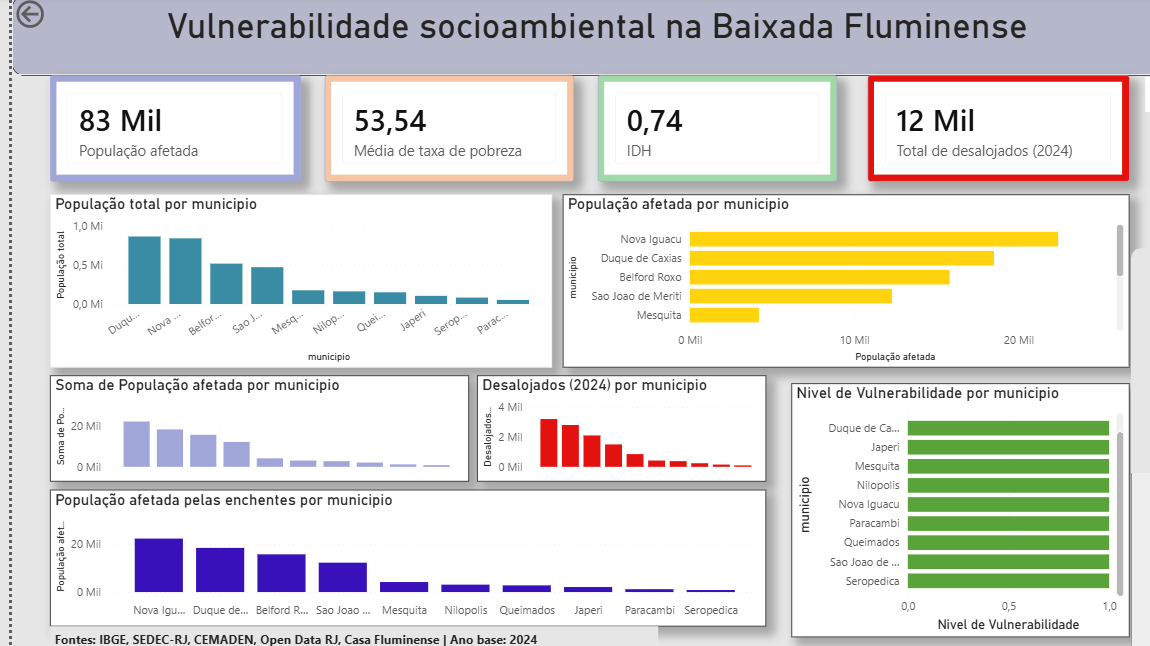

The dashboard page shown, as its layout file describes it:
{"tool":"powerbi","page":{"name":"Página 1","canvas":[1280,720],"ordinal":0},"visuals":[{"type":"textbox","box":[0,0,1279.2,86.7],"z":0},{"type":"cardVisual","fields":{"Data":["Sum(Sheet1.População afetada)"]},"box":[41.6,86.7,273.9,116.1],"z":1000},{"type":"cardVisual","fields":{"Data":["Avg(Sheet1.taxa_pobreza)"]},"box":[341.5,86.7,272.1,116.1],"z":2000},{"type":"cardVisual","fields":{"Data":["Avg(Sheet1.idh)"]},"box":[639.6,86.7,261.7,116.1],"z":3000},{"type":"cardVisual","fields":{"Data":["Sum(Sheet1.desalojados_2024)"]},"box":[934.3,86.7,286,116.1],"z":4000},{"type":"columnChart","fields":{"Y":["Sum(Sheet1.populacao_total)"],"Category":["Sheet1.municipio"]},"box":[41.6,216.7,547.7,188.9],"z":5000},{"type":"clusteredBarChart","fields":{"Category":["Sheet1.municipio"],"Y":["Sum(Sheet1.População afetada)"]},"box":[601.5,216.7,618.8,188.9],"z":6000},{"type":"columnChart","fields":{"Category":["Sheet1.municipio"],"Y":["Sum(Sheet1.População afetada)"]},"box":[41.6,414.3,457.6,116.1],"z":7000},{"type":"columnChart","fields":{"Category":["Sheet1.municipio"],"Y":["Sum(Sheet1.desalojados_2024)"]},"box":[507.9,414.3,315.5,116.1],"z":8000},{"type":"actionButton","box":[0,0,100,40],"z":9000},{"type":"columnChart","fields":{"Category":["Sheet1.municipio"],"Y":["Sum(Sheet1.População afetada)"]},"box":[41.6,539.1,781.7,149.1],"z":10000},{"type":"clusteredBarChart","fields":{"Category":["Sheet1.municipio"],"Y":["CountNonNull(Sheet1.Nivel_Vulnerabilidade)"]},"box":[851.1,422.9,369.2,277.3],"z":11000},{"type":"textbox","box":[41.6,688.1,663.9,31.2],"z":11001}]}

Visuals, with their boxes in screenshot pixels (x1, y1, x2, y2), scaled from the page's 1280x720 canvas onto the 1150x646 screenshot:
textbox: region(0, 0, 1149, 78)
cardVisual - Sum(Sheet1.População afetada): region(37, 78, 283, 182)
cardVisual - Avg(Sheet1.taxa_pobreza): region(307, 78, 551, 182)
cardVisual - Avg(Sheet1.idh): region(575, 78, 810, 182)
cardVisual - Sum(Sheet1.desalojados_2024): region(839, 78, 1096, 182)
columnChart - Sum(Sheet1.populacao_total) x Sheet1.municipio: region(37, 194, 529, 364)
clusteredBarChart - Sheet1.municipio x Sum(Sheet1.População afetada): region(540, 194, 1096, 364)
columnChart - Sheet1.municipio x Sum(Sheet1.População afetada): region(37, 372, 449, 476)
columnChart - Sheet1.municipio x Sum(Sheet1.desalojados_2024): region(456, 372, 740, 476)
actionButton: region(0, 0, 90, 36)
columnChart - Sheet1.municipio x Sum(Sheet1.População afetada): region(37, 484, 740, 617)
clusteredBarChart - Sheet1.municipio x CountNonNull(Sheet1.Nivel_Vulnerabilidade): region(765, 379, 1096, 628)
textbox: region(37, 617, 634, 645)
